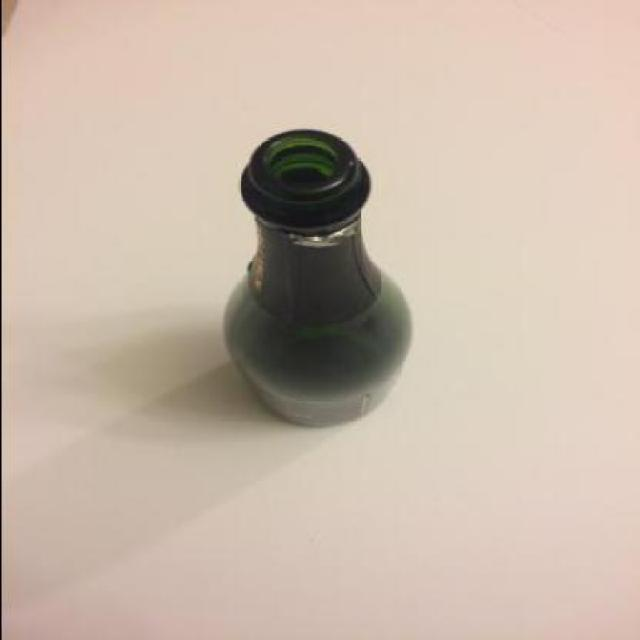glass: (218, 128, 410, 426)
